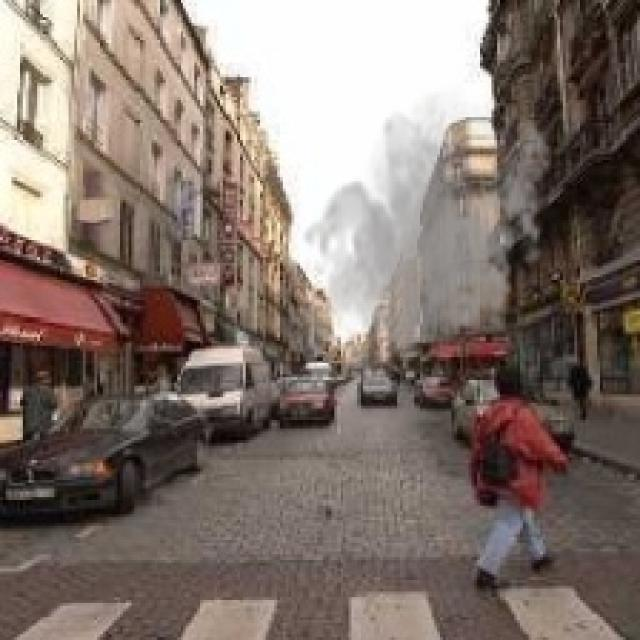Smoke: (300, 83, 557, 366)
